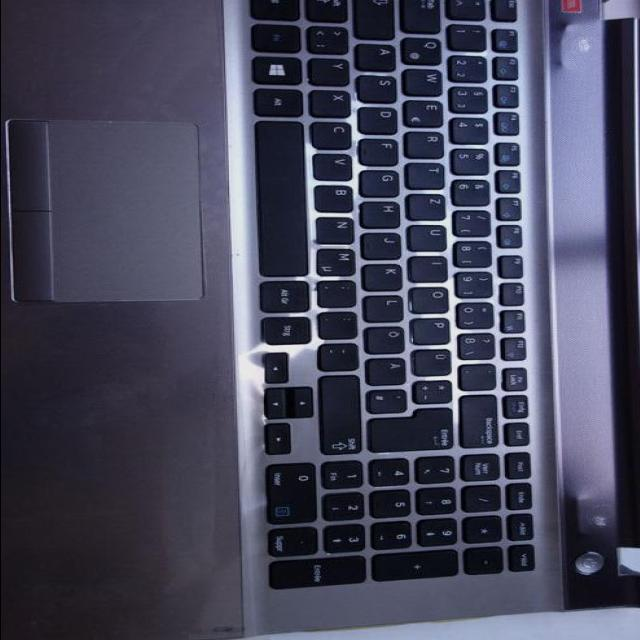0: (460, 299, 499, 327)
1: (451, 22, 491, 48)
2: (452, 52, 492, 80)
3: (452, 83, 492, 111)
4: (455, 116, 494, 142)
5: (455, 145, 494, 173)
6: (455, 177, 495, 203)
7: (456, 208, 495, 234)
8: (458, 237, 497, 265)
9: (459, 268, 498, 296)
a: (359, 42, 401, 68)
accent: (463, 362, 502, 388)
ae: (368, 355, 410, 383)
alt-left: (257, 86, 307, 115)
altgr-right: (264, 278, 314, 310)
b: (316, 182, 358, 211)
c: (314, 119, 356, 147)
caret: (451, 1, 490, 17)
comma: (320, 277, 360, 305)
d: (360, 104, 402, 132)
del: (464, 392, 503, 446)
e: (407, 97, 449, 125)
enter: (372, 405, 459, 449)
f: (361, 136, 403, 164)
g: (363, 168, 405, 194)
h: (363, 198, 405, 226)
hash: (371, 386, 413, 411)
i: (412, 254, 452, 280)
j: (364, 231, 407, 257)
k: (365, 261, 407, 289)
keyboard: (238, 0, 560, 598)
l: (367, 292, 409, 320)
less: (310, 24, 354, 53)
m: (319, 245, 361, 274)
minus: (323, 340, 363, 369)
n: (319, 214, 359, 242)
o: (414, 283, 454, 311)
oe: (368, 324, 410, 352)
p: (415, 315, 455, 343)
plus: (417, 377, 457, 401)
point: (320, 309, 362, 338)
q: (404, 35, 446, 63)
r: (408, 129, 448, 157)
s: (360, 72, 402, 100)
shift-left: (309, 0, 353, 19)
shift-lock: (356, 0, 399, 38)
shift-right: (317, 372, 367, 460)
space: (259, 118, 312, 274)
ss: (461, 330, 500, 358)
strg-left: (253, 0, 305, 18)
strg-right: (265, 314, 315, 343)
t: (410, 161, 450, 187)
tab: (404, 0, 446, 30)
u: (411, 223, 451, 249)
ue: (415, 347, 455, 375)
v: (316, 151, 358, 179)
w: (407, 66, 447, 94)
x: (312, 87, 355, 115)
y: (310, 56, 354, 84)
z: (409, 191, 451, 219)
